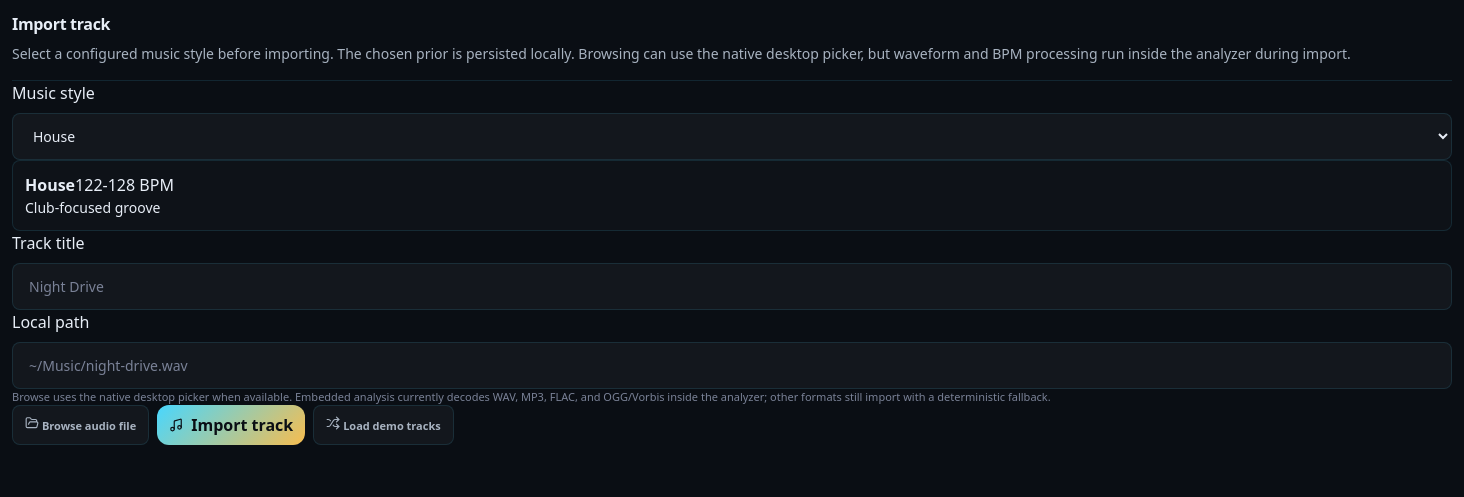
it: ImportTrackForm › shows browse failures
Click the button "Browse audio file" at (81, 425), box [12,405,149,445]
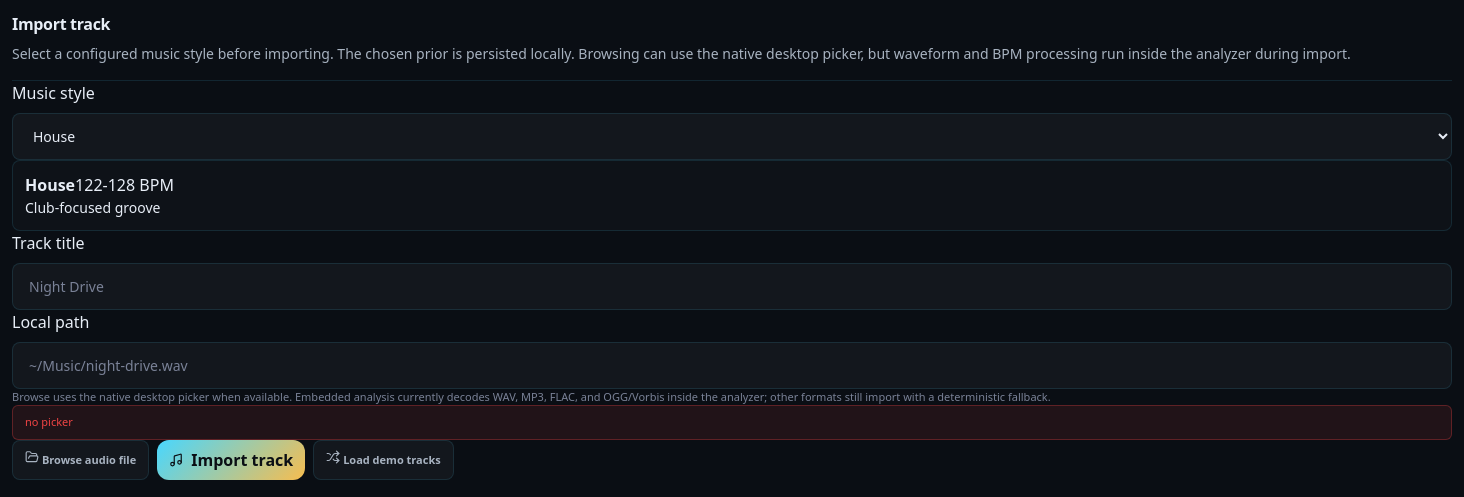
Result: the text "no picker" is shown at [12,405,1452,440]
